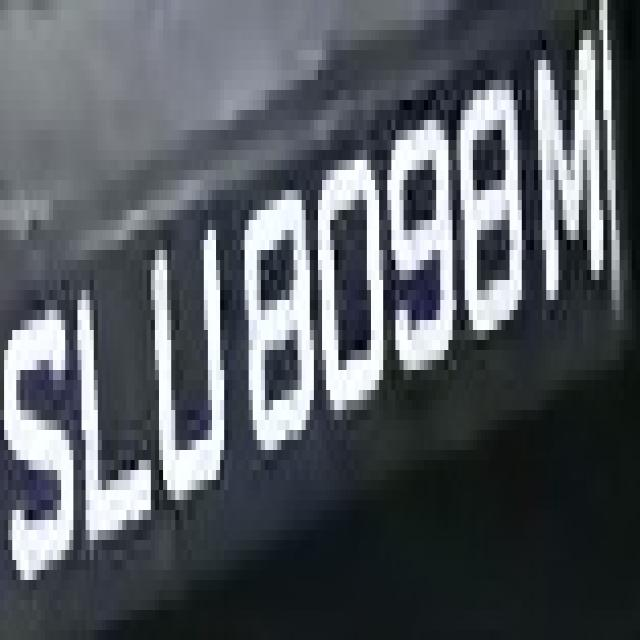0: (306, 160, 391, 440)
8: (452, 80, 534, 380), (240, 180, 318, 470)
9: (383, 80, 469, 390)
L: (69, 240, 155, 560)
M: (526, 20, 620, 320)
S: (8, 270, 74, 600)
U: (138, 200, 232, 520)
